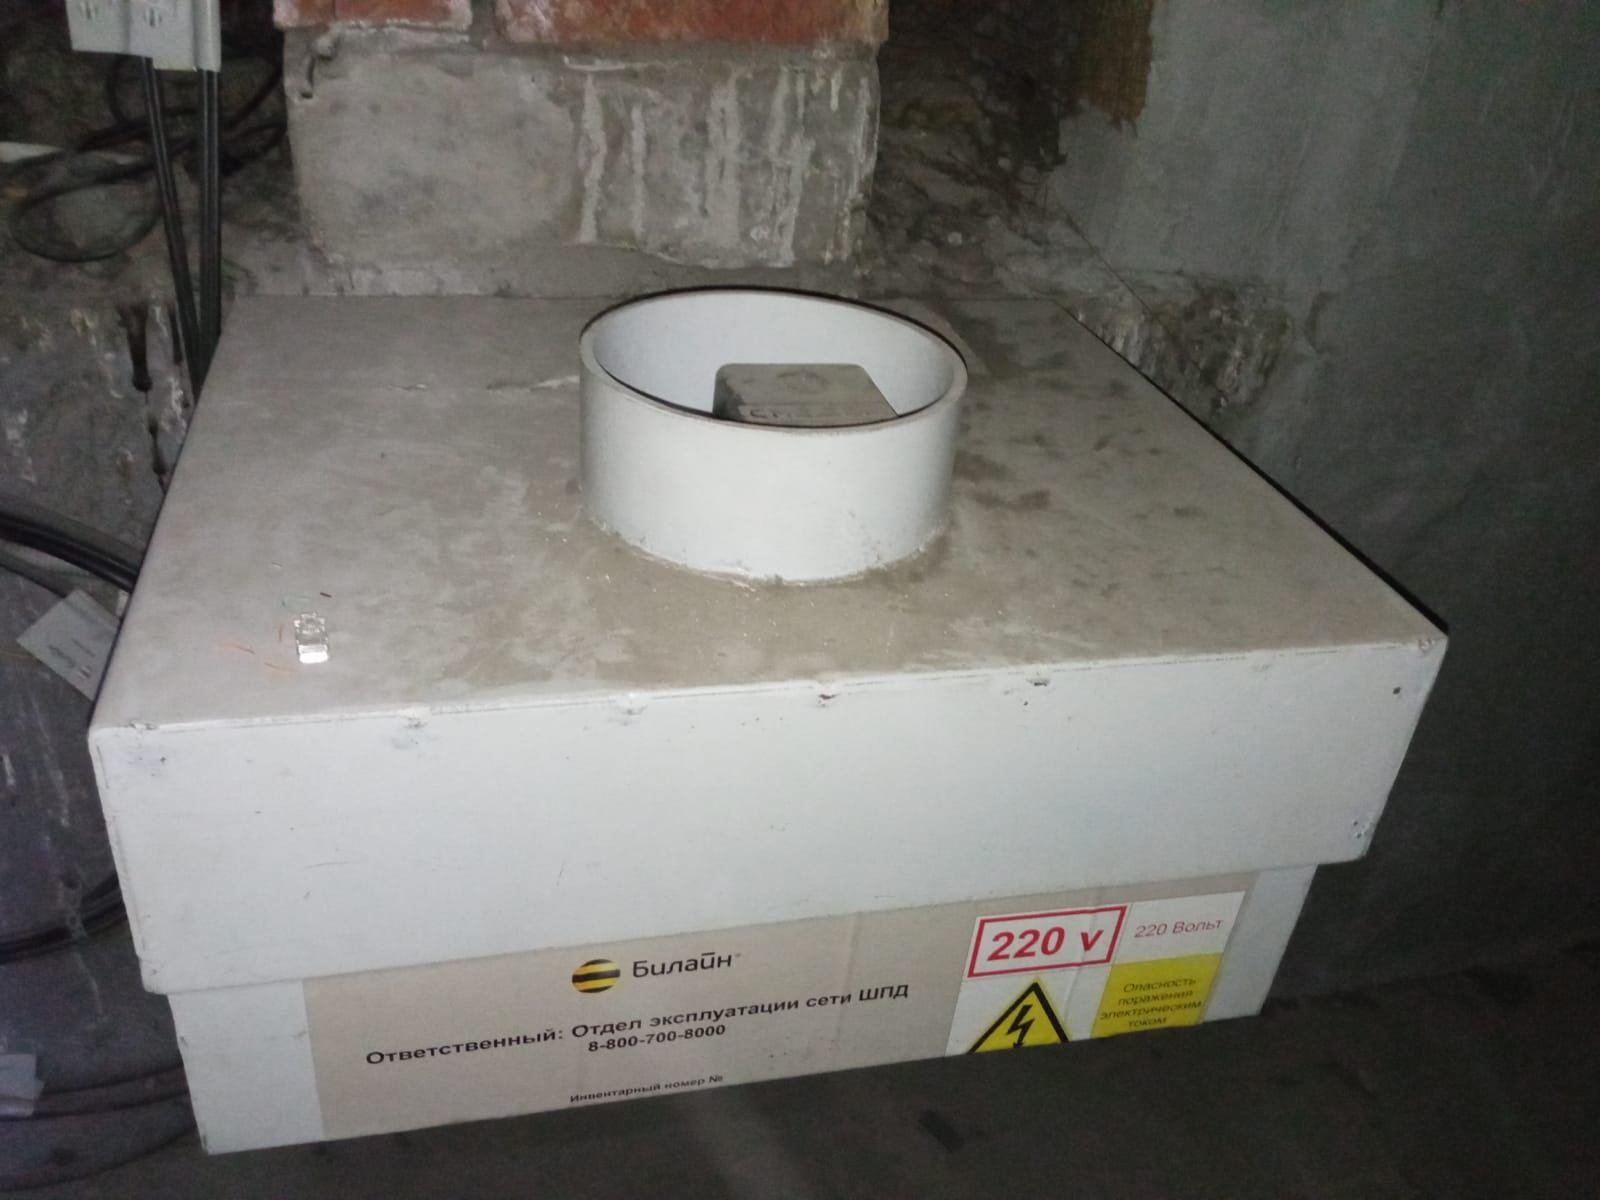shta-ps: (78, 258, 1459, 1166)
